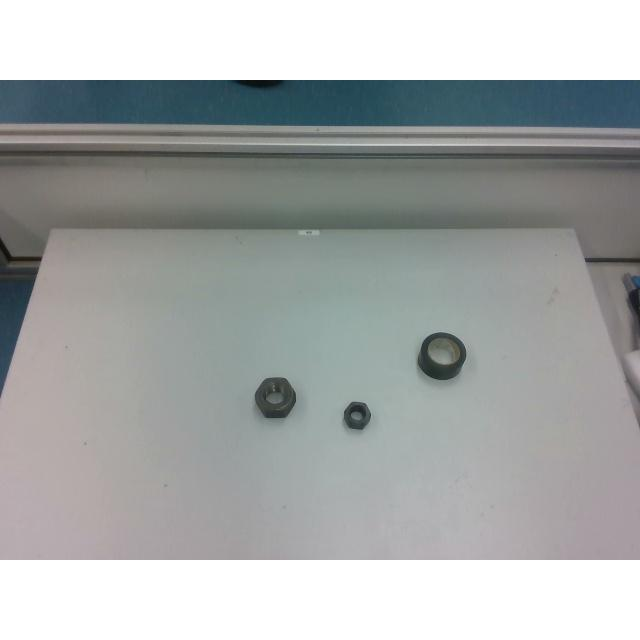M20: (343, 400, 371, 428)
M30: (256, 376, 296, 419)
